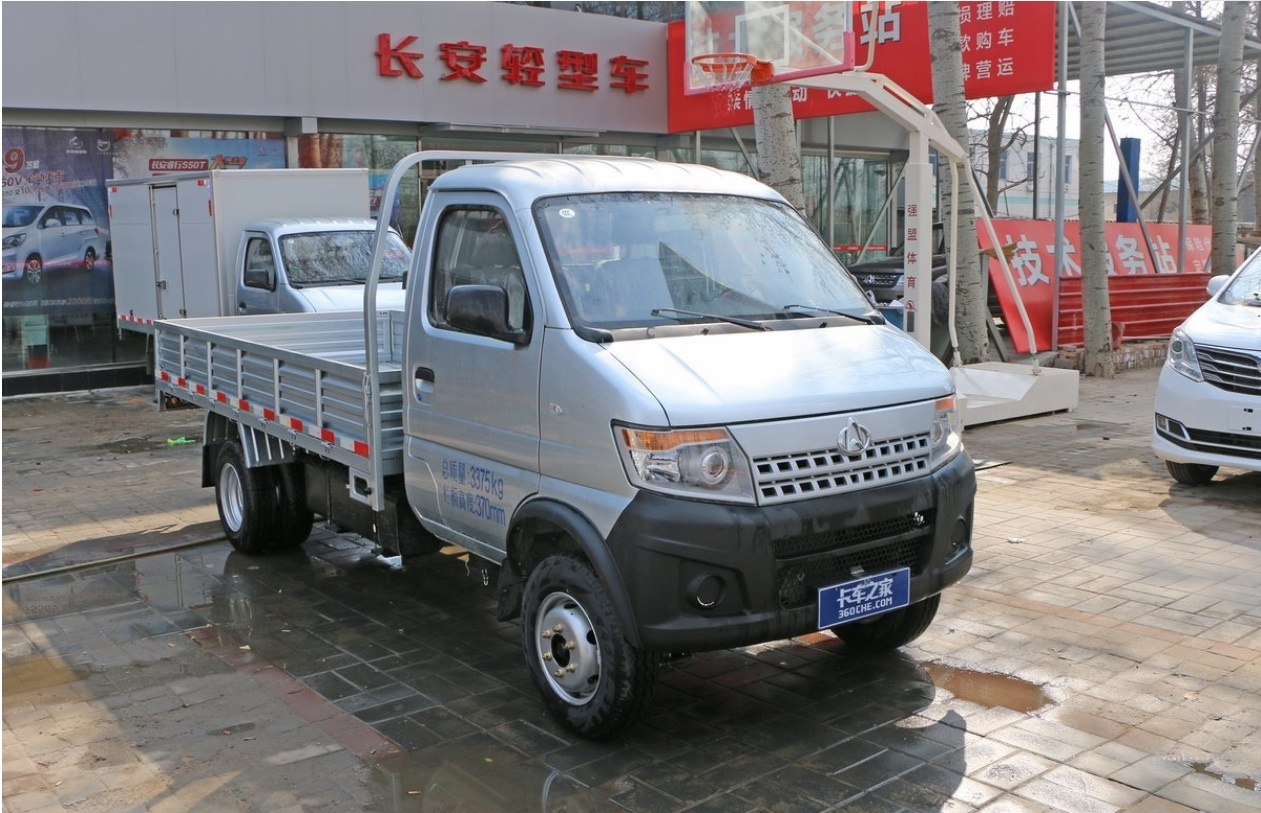truck: (123, 144, 985, 709)
